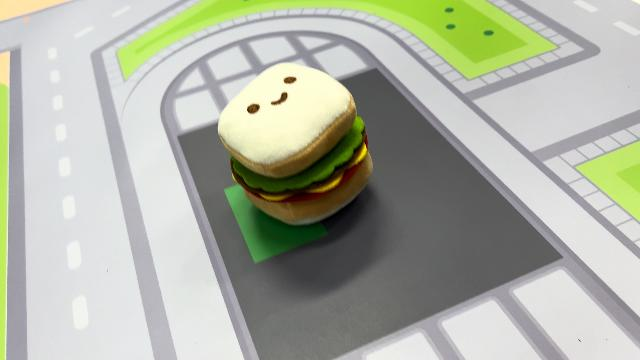sandwich: (215, 59, 375, 226)
